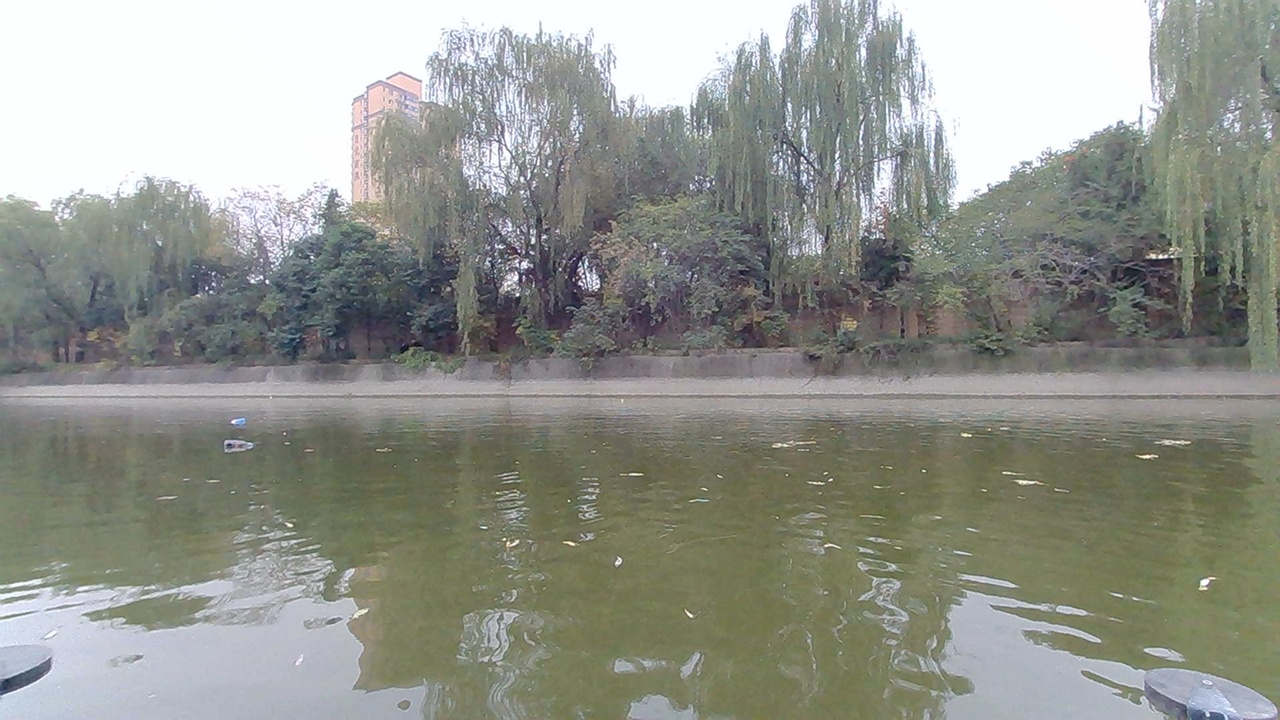bottle: (219, 427, 263, 455), (226, 408, 259, 432)
